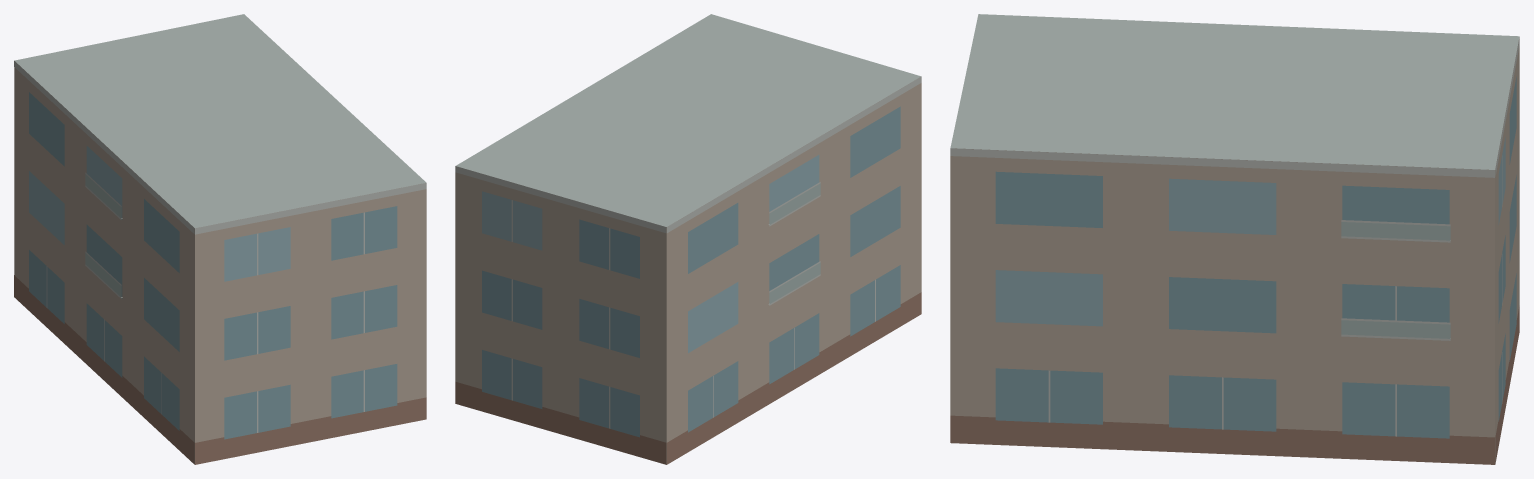
Rendered from survey-upis-32888071.glb.
The picture shows the model from 3 angles, left to right: view 1: azimuth 30°, elevation 25°; view 2: azimuth 150°, elevation 25°; view 3: azimuth 270°, elevation 25°; orthographic projection. The views are drawn at different scales.
Parts seen in each view (by area): view 1: survey-upis-32888071.tmp; view 2: survey-upis-32888071.tmp; view 3: survey-upis-32888071.tmp.
Boxes of the visible parts, x1,y1,x2,y2 form: survey-upis-32888071.tmp: (14,14,426,464); survey-upis-32888071.tmp: (455,14,921,464); survey-upis-32888071.tmp: (950,14,1519,464).
Bounding box in the file's own units: 10.39 × 9.15 × 16.02.
